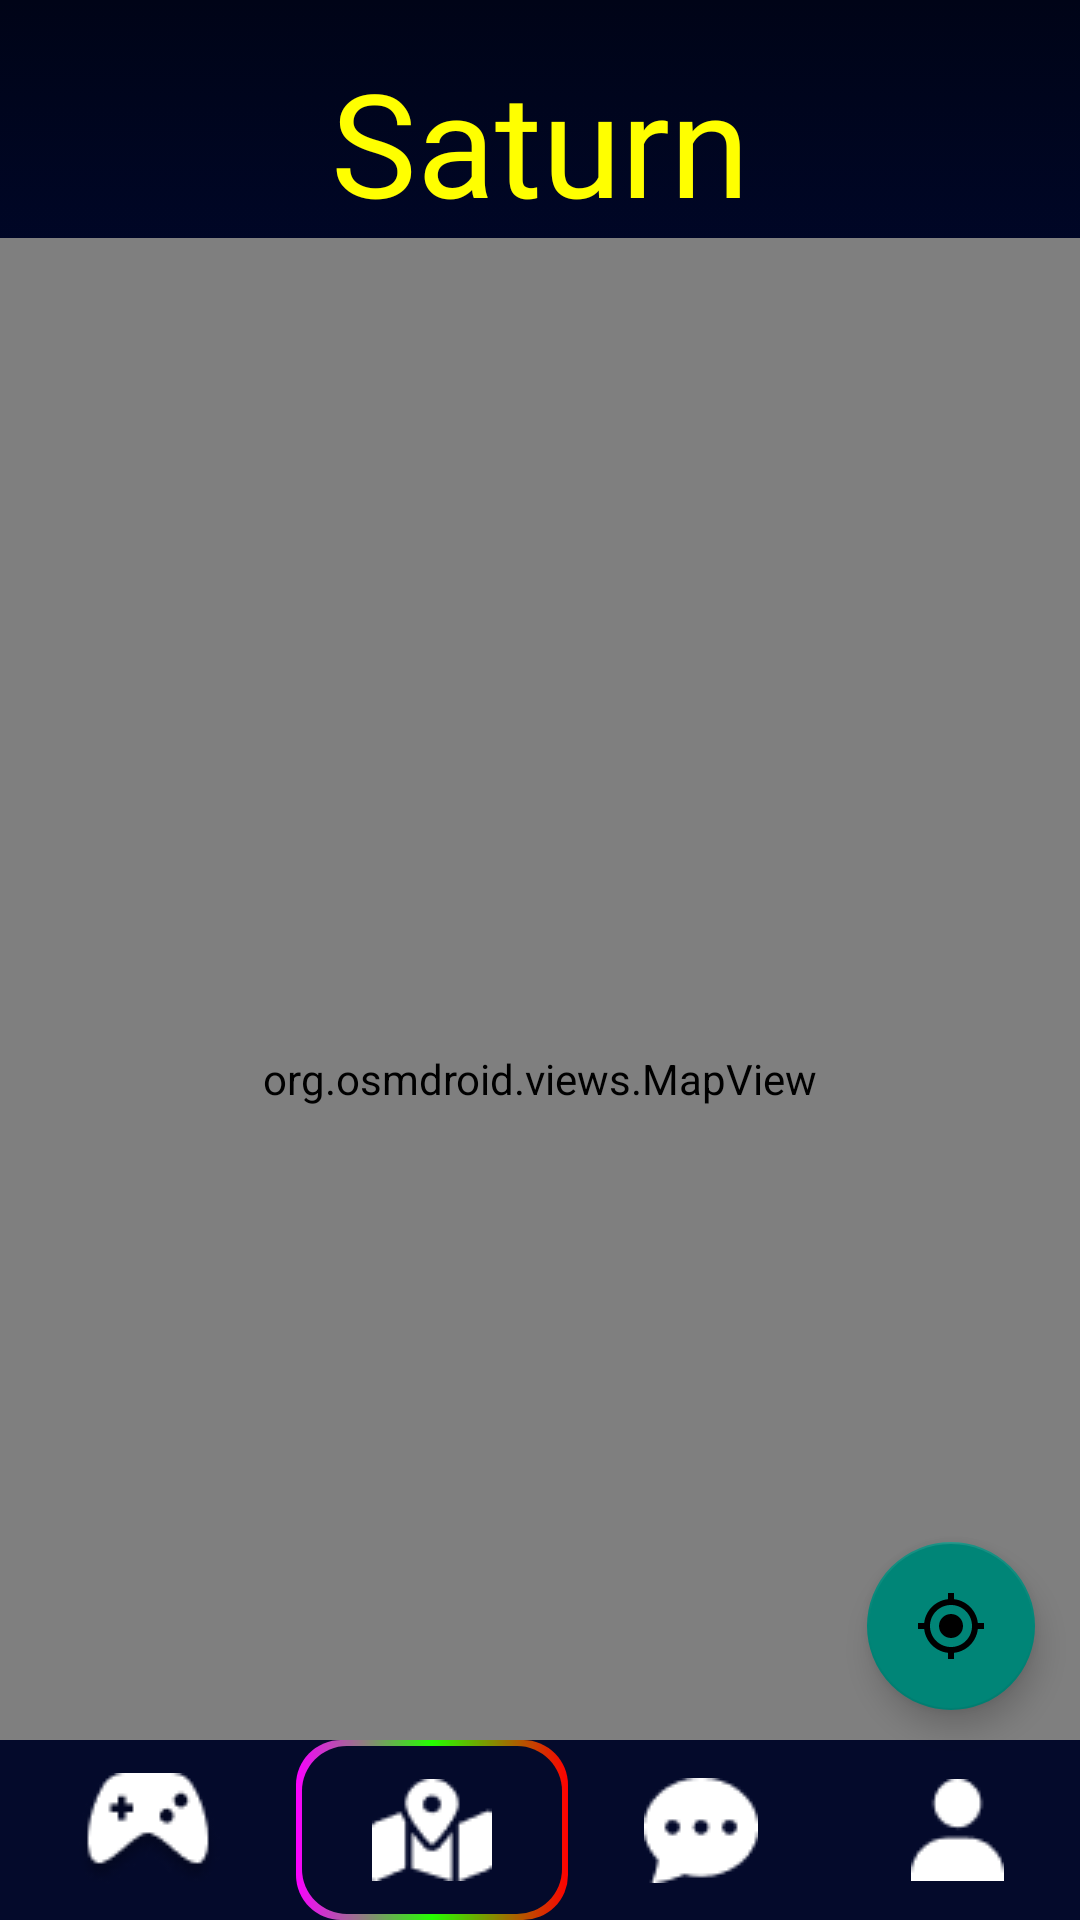

Icon click points for this 1080 x 1920 phone screenshot, format (x,y):
controlrecto: (148,1830)
location: (951,1626)
mapa: (432,1830)
